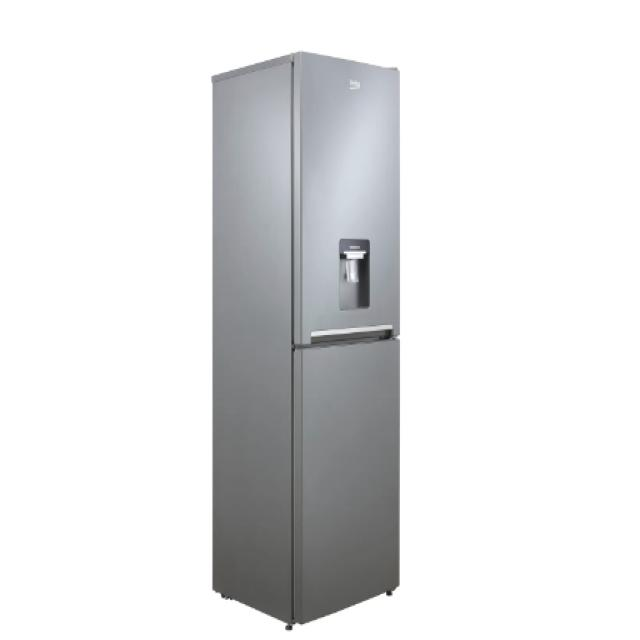refrigerator: (284, 50, 402, 624)
